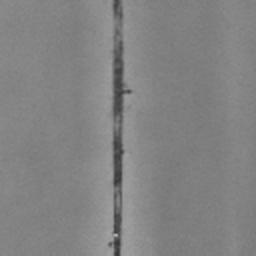Slag inclusion: (110, 0, 132, 256)
